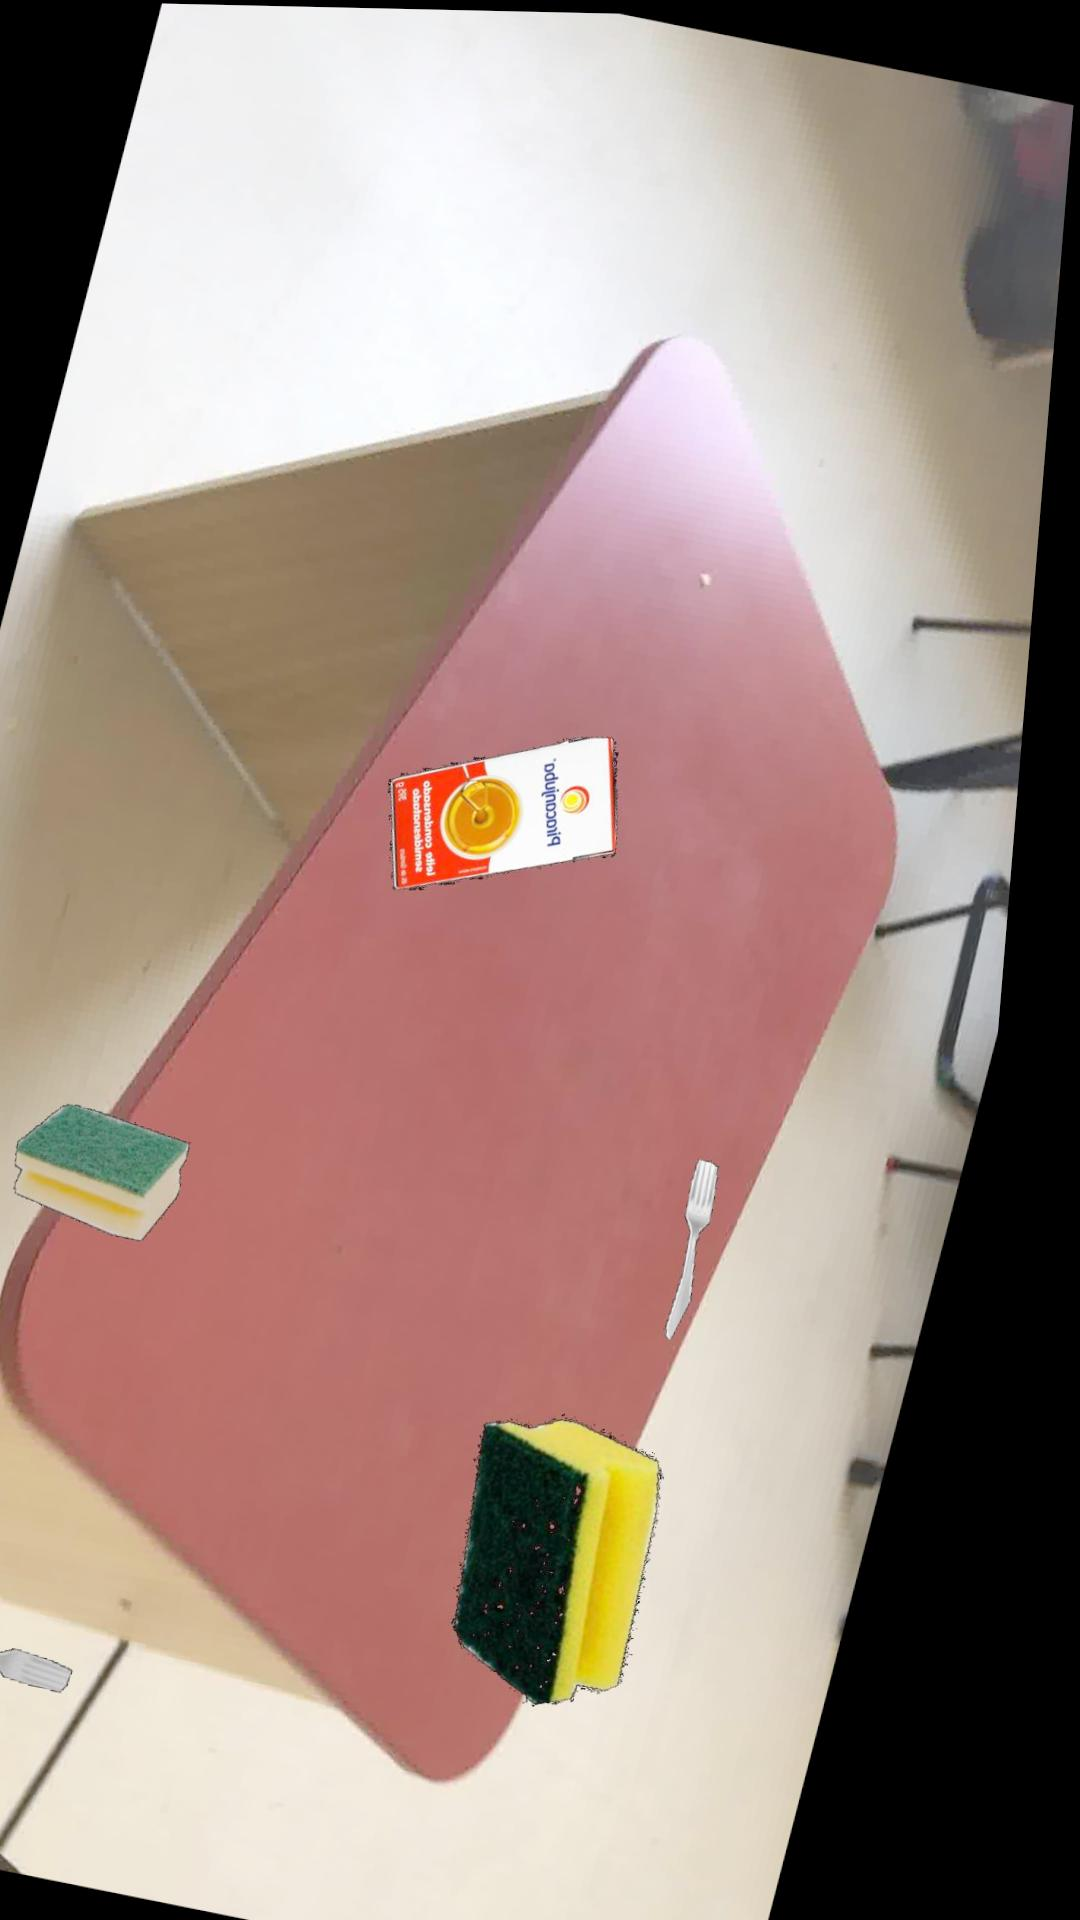fork: (686, 1155, 736, 1336), (0, 1644, 99, 1692)
sponge: (476, 1416, 684, 1702), (32, 1104, 207, 1240)
